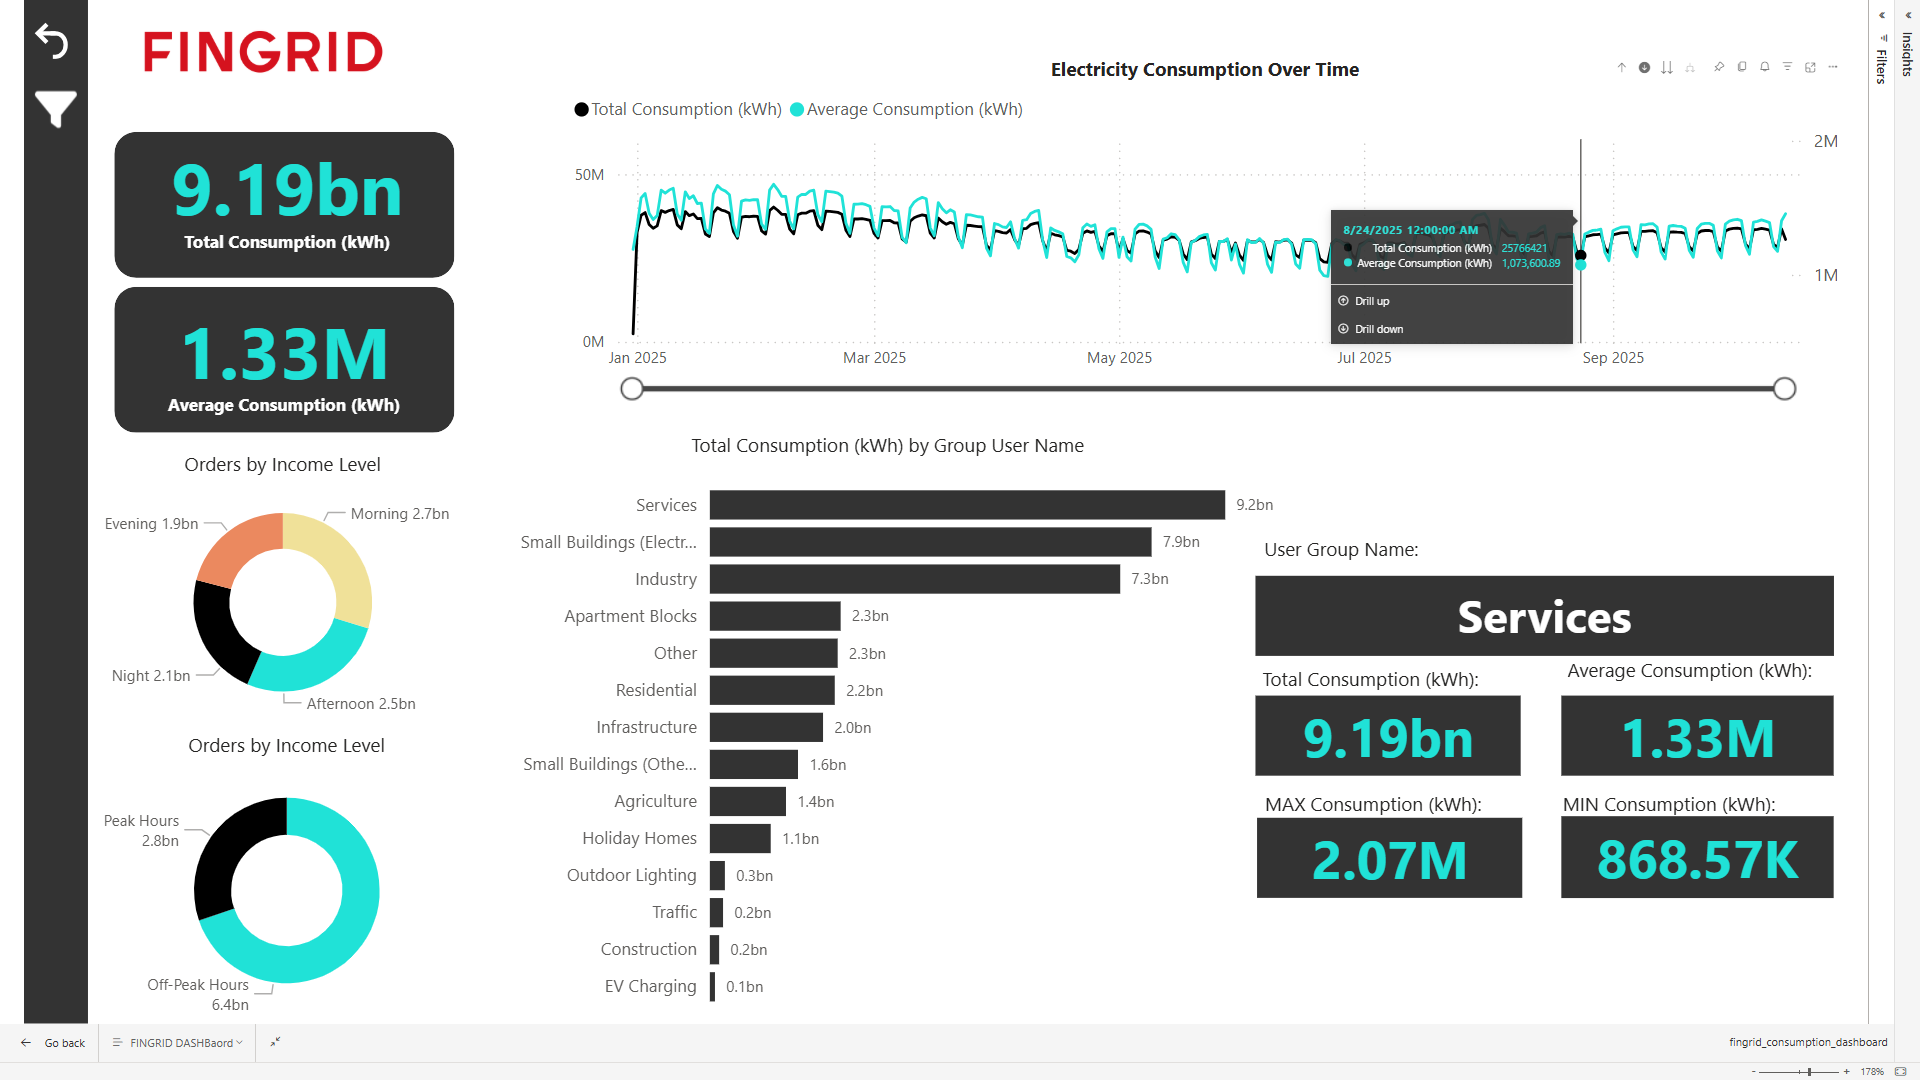

The dashboard page shown, as its layout file describes it:
{"tool":"powerbi","page":{"name":"FINGRID DASHBaord","canvas":[1280,720],"ordinal":0},"visuals":[{"type":"clusteredBarChart","title":"Total Consumption (kWh) by Group User Name","fields":{"Y":[" Measures.Total Consumption (kWh)"],"Category":["dim_usergroup.user_group_name"]},"box":[331.2,303.8,552.5,416.2],"z":0},{"type":"donutChart","title":"Orders by Income Level","fields":{"Category":["dim_hour.peak_description"],"Y":["Sum(fact_consumption.total_consumption_kwh)"]},"box":[51.2,515,267.5,205],"z":1000},{"type":"shape","box":[63.8,92.5,239.5,102.8],"z":2000,"group":"g1"},{"type":"donutChart","title":"Orders by Income Level","fields":{"Category":["dim_hour.period_of_day"],"Y":[" Measures.Total Consumption (kWh)"]},"box":[42.5,317.5,278.8,195],"z":2000},{"type":"lineChart","title":"Electricity Consumption Over Time","fields":{"Y":[" Measures.Total Consumption (kWh)"],"Category":["dim_date.year Hierarchy.year","dim_date.year Hierarchy.quarter","dim_date.year Hierarchy.month_name","dim_date.year Hierarchy.date","dim_date.year Hierarchy.day_of_month"],"Y2":[" Measures.Average Consumption (kWh)"]},"box":[381.2,40,898.8,245],"z":3000},{"type":"shape","box":[63.8,201.4,239.5,102.8],"z":3000,"group":"g1"},{"type":"group","id":"g1","title":"Group 2","box":[63.8,92.5,240,211.2],"z":5000},{"type":"group","id":"g2","title":"Group 1","box":[55,62.5,257.5,265],"z":6000},{"type":"card","fields":{"Values":[" Measures.Average Consumption (kWh)"]},"box":[55,177.5,255.9,149.9],"z":6000,"group":"g2"},{"type":"image","box":[75,10,186.2,52.5],"z":7000},{"type":"card","fields":{"Values":["Min(dim_usergroup.user_group_name)"]},"box":[866.2,405,406.9,56.6],"z":7000,"group":"g4"},{"type":"card","fields":{"Values":[" Measures.Total Consumption (kWh)"]},"box":[57.3,62.5,255.9,149.9],"z":8000,"group":"g2"},{"type":"group","id":"g3","title":"Group 4","box":[866.2,372.6,401.2,258.8],"z":8000},{"type":"card","fields":{"Values":[" Measures.Total Consumption (kWh)"]},"box":[866.2,489.2,187.2,56.6],"z":8000,"group":"g4"},{"type":"shape","title":"Left Nav Background","box":[0,0,45,720],"z":9000},{"type":"card","fields":{"Values":[" Measures.Average Consumption (kWh)"]},"box":[1081.3,489.2,191.8,56.6],"z":9000,"group":"g4"},{"type":"actionButton","box":[2.5,10,35,36.2],"z":10000},{"type":"textbox","box":[866.2,464.4,187.2,32.9],"z":10000,"group":"g4"},{"type":"actionButton","box":[3.8,57.5,37.5,40],"z":11000},{"type":"textbox","box":[1080.8,457.4,185.9,31.1],"z":11000,"group":"g3"},{"type":"textbox","box":[867.2,372.6,187,32.3],"z":12000,"group":"g4"},{"type":"card","fields":{"Values":[" Measures.Max Consumption (kWh)"]},"box":[867.2,575.4,187.2,56.5],"z":13000,"group":"g4"},{"type":"card","fields":{"Values":[" Measures.Min Consumption (kWh)"]},"box":[1081.6,574.5,191.4,57.4],"z":14000,"group":"g4"},{"type":"textbox","box":[867.7,551.6,187.2,32.9],"z":15000,"group":"g4"},{"type":"textbox","box":[1077.3,551.6,187.2,32.9],"z":16000,"group":"g4"},{"type":"group","id":"g4","title":"Group 3","box":[866.2,372.6,400.2,259.3],"z":17001,"group":"g3"}]}

Visuals, with their boxes in screenshot pixels (x1, y1, x2, y2):
"Total Consumption (kWh) by Group User Name" clusteredBarChart: <box>505,414,1322,1030</box>
"Orders by Income Level" donutChart: <box>91,727,486,1030</box>
shape: <box>109,102,464,254</box>
"Orders by Income Level" donutChart: <box>78,435,490,723</box>
"Electricity Consumption Over Time" lineChart: <box>579,24,1908,387</box>
shape: <box>109,263,464,415</box>
"Group 2" group: <box>109,102,464,414</box>
"Group 1" group: <box>96,57,477,449</box>
card -  Measures.Average Consumption (kWh): <box>96,228,475,449</box>
image: <box>126,0,401,57</box>
card - Min(dim_usergroup.user_group_name): <box>1296,564,1898,648</box>
card -  Measures.Total Consumption (kWh): <box>100,57,478,279</box>
"Group 4" group: <box>1296,516,1890,899</box>
card -  Measures.Total Consumption (kWh): <box>1296,689,1573,772</box>
"Left Nav Background" shape: <box>15,0,82,1030</box>
card -  Measures.Average Consumption (kWh): <box>1615,689,1898,772</box>
actionButton: <box>19,0,70,33</box>
textbox: <box>1296,652,1573,701</box>
actionButton: <box>21,50,76,109</box>
textbox: <box>1614,642,1889,688</box>
textbox: <box>1298,516,1574,564</box>
card -  Measures.Max Consumption (kWh): <box>1298,816,1575,900</box>
card -  Measures.Min Consumption (kWh): <box>1615,815,1898,900</box>
textbox: <box>1299,781,1575,830</box>
textbox: <box>1609,781,1886,830</box>
"Group 3" group: <box>1296,516,1888,900</box>
